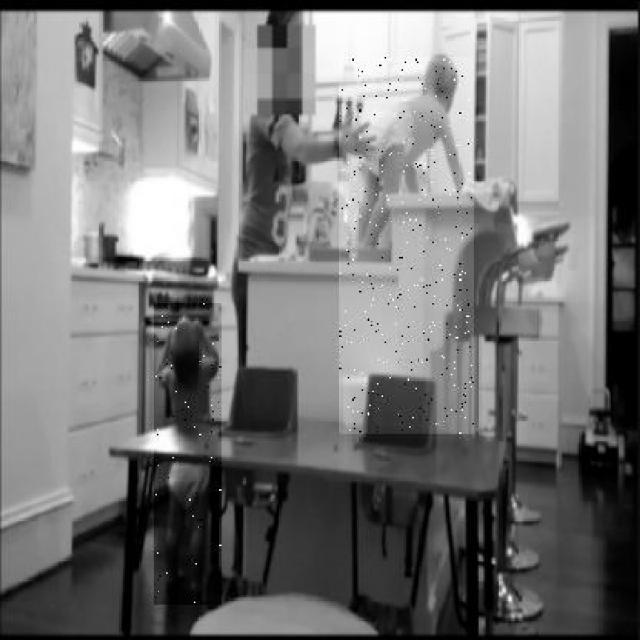child: (340, 57, 474, 434), (153, 303, 221, 605)
